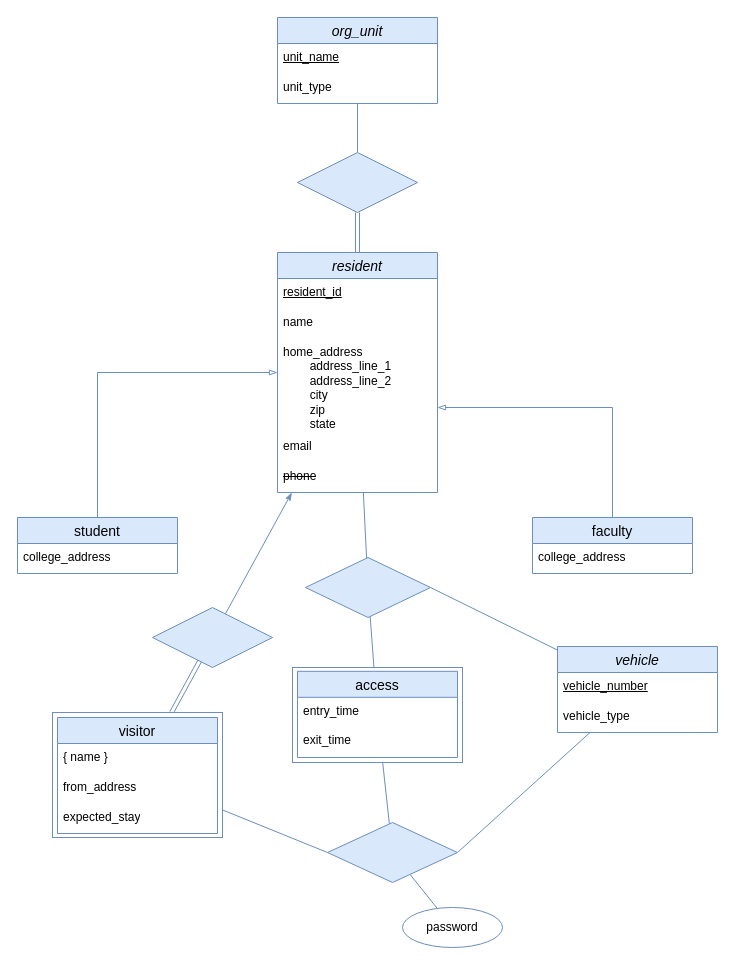
This 735x965 diagram has some shape labels left out. Here are the shapes that lost their labels. From the top down, the centre of each, then its label:
At [357,182]: "res_org".
At [367,587]: "res_accesses".
At [212,637]: "res_visitors".
At [392,852]: "visitor_accesses".
